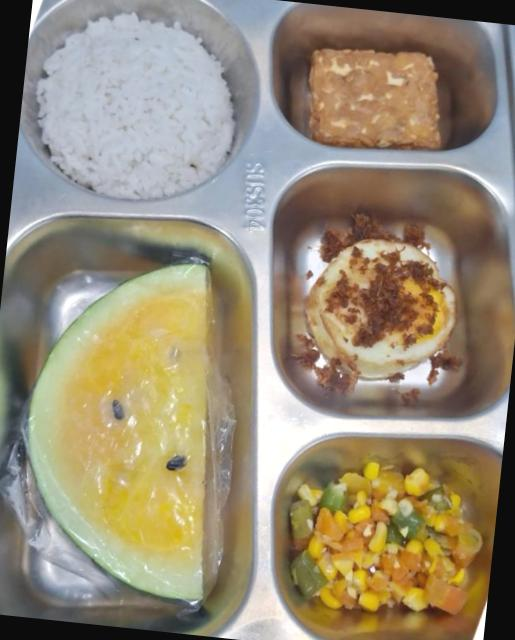buah: (27, 265, 231, 602)
nasi: (37, 14, 234, 199)
sayur: (289, 462, 482, 615)
telur: (306, 239, 455, 379)
tempe: (310, 49, 440, 150)
